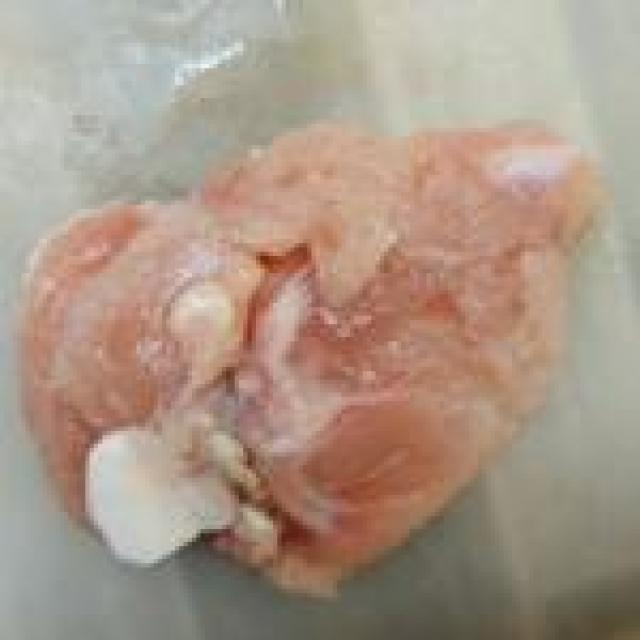breast: (26, 122, 586, 562)
